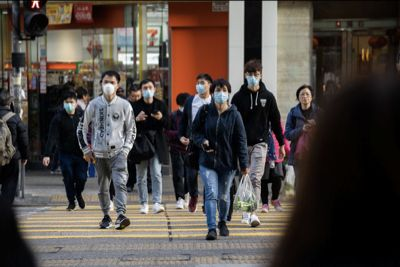no-mask: (296, 84, 316, 113), (128, 83, 141, 105)
with-mask: (97, 71, 124, 99), (242, 61, 265, 93), (210, 79, 233, 108), (195, 73, 213, 98), (58, 92, 79, 113), (172, 92, 190, 115), (141, 79, 155, 102)
